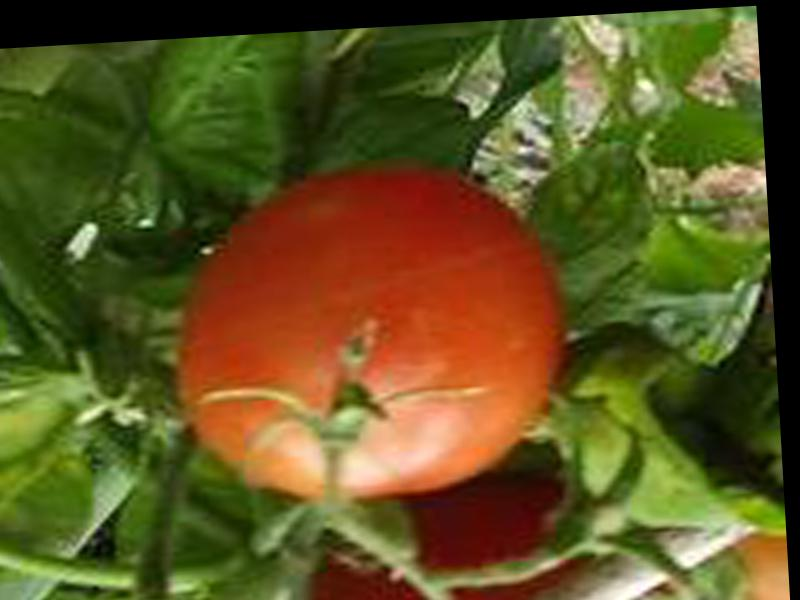Tomato: (171, 167, 567, 510)
